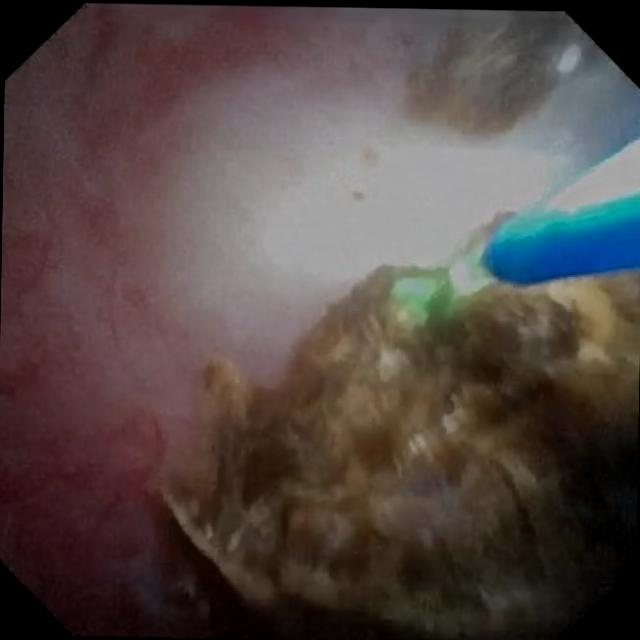laser-fibre: (450, 241, 495, 291)
laser_dot: (392, 277, 441, 311)
stone-new: (163, 211, 639, 640), (407, 10, 582, 135), (361, 145, 377, 166)
